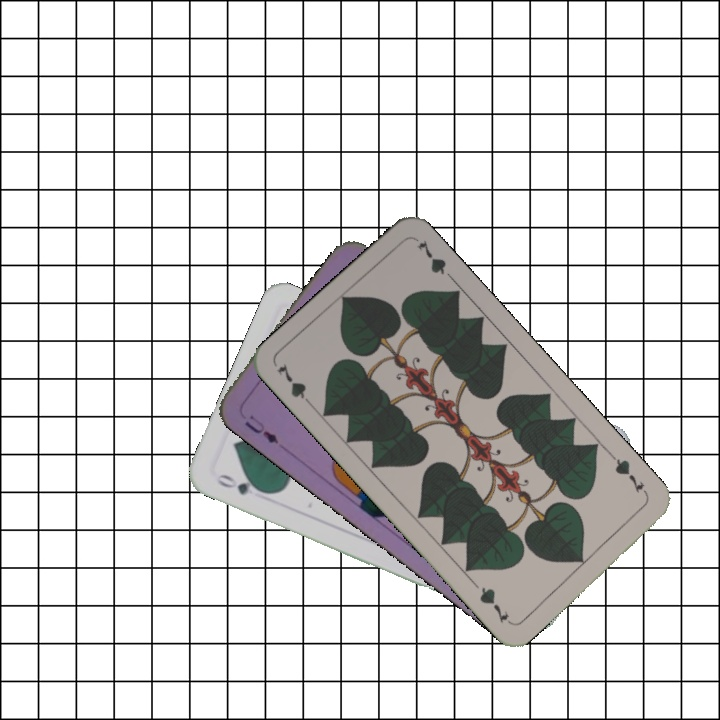EU: (240, 410, 281, 447)
G7: (272, 360, 317, 411), (607, 451, 651, 499)
GO: (211, 470, 269, 498)
